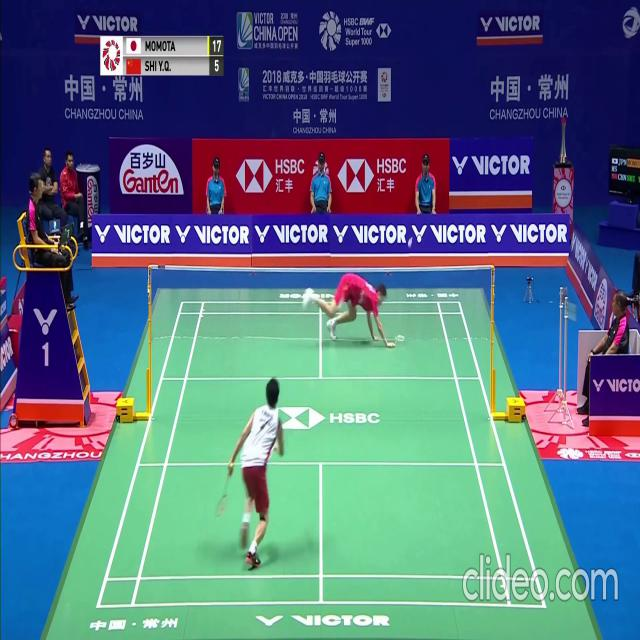Shuttlecock: (408, 237, 413, 245)
